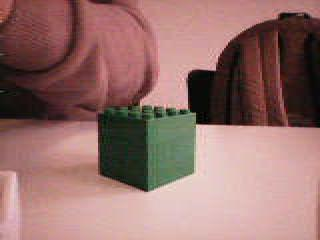legocube: (96, 104, 201, 194)
